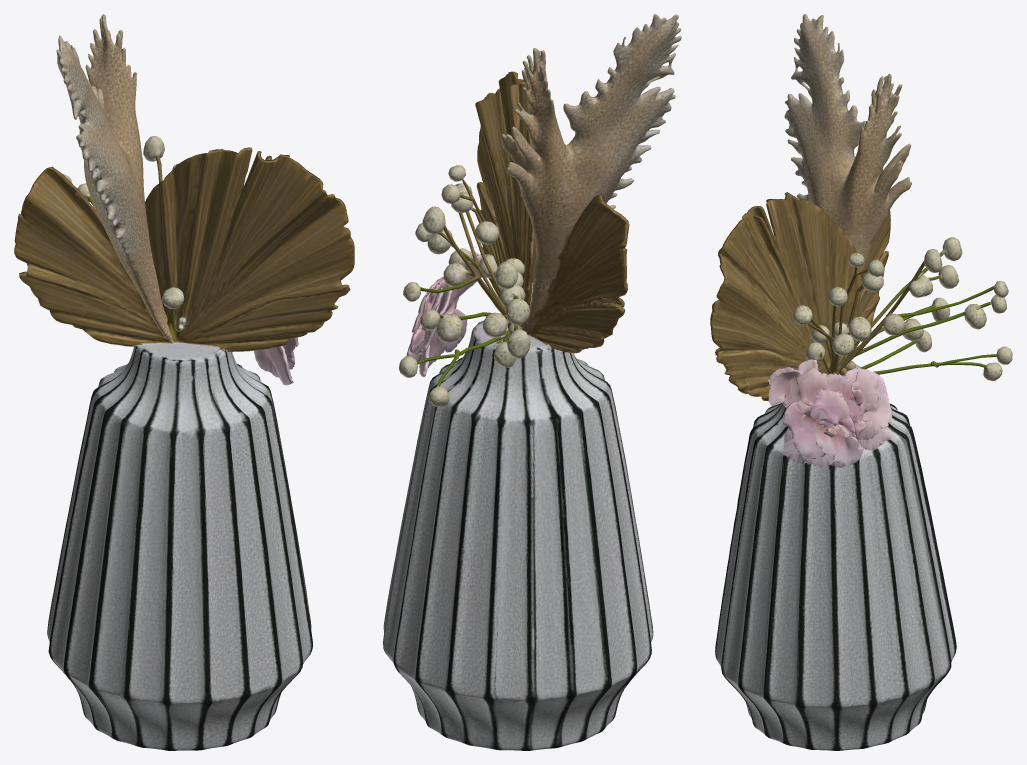
File: decor-vase-flowers-b.glb
3 views of the same model, side by side, from view 1: azimuth 30°, elevation 25°; view 2: azimuth 150°, elevation 25°; view 3: azimuth 270°, elevation 25° (orthographic). The views are drawn at different scales.
Parts seen in each view (by area): view 1: tripo_node_86b2c252-17a2-4d63-af6b-9c87035adf6f; view 2: tripo_node_86b2c252-17a2-4d63-af6b-9c87035adf6f; view 3: tripo_node_86b2c252-17a2-4d63-af6b-9c87035adf6f.
Boxes of the visible parts, x1=… form: tripo_node_86b2c252-17a2-4d63-af6b-9c87035adf6f: x1=14, y1=14, x2=354, y2=750; tripo_node_86b2c252-17a2-4d63-af6b-9c87035adf6f: x1=383, y1=14, x2=681, y2=750; tripo_node_86b2c252-17a2-4d63-af6b-9c87035adf6f: x1=710, y1=14, x2=1012, y2=750.
Size of the model in its own units: 0.1695 by 0.45 by 0.1909.
Materials: 1 (1 with a texture image).
